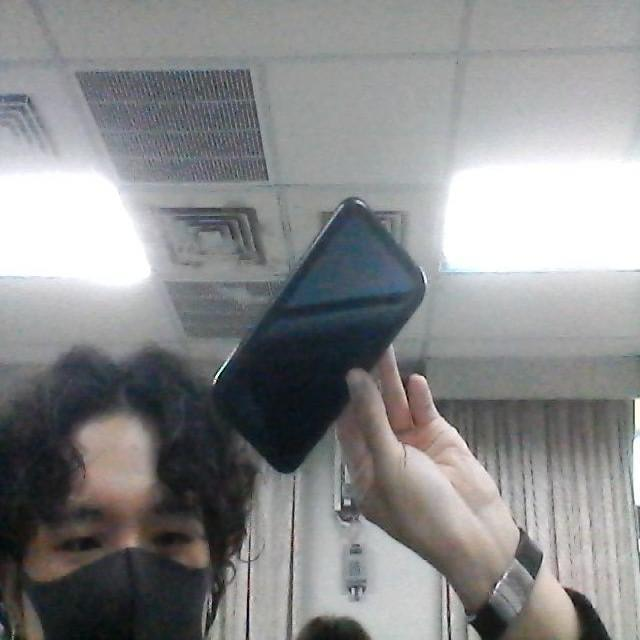Phone: (206, 195, 430, 475)
